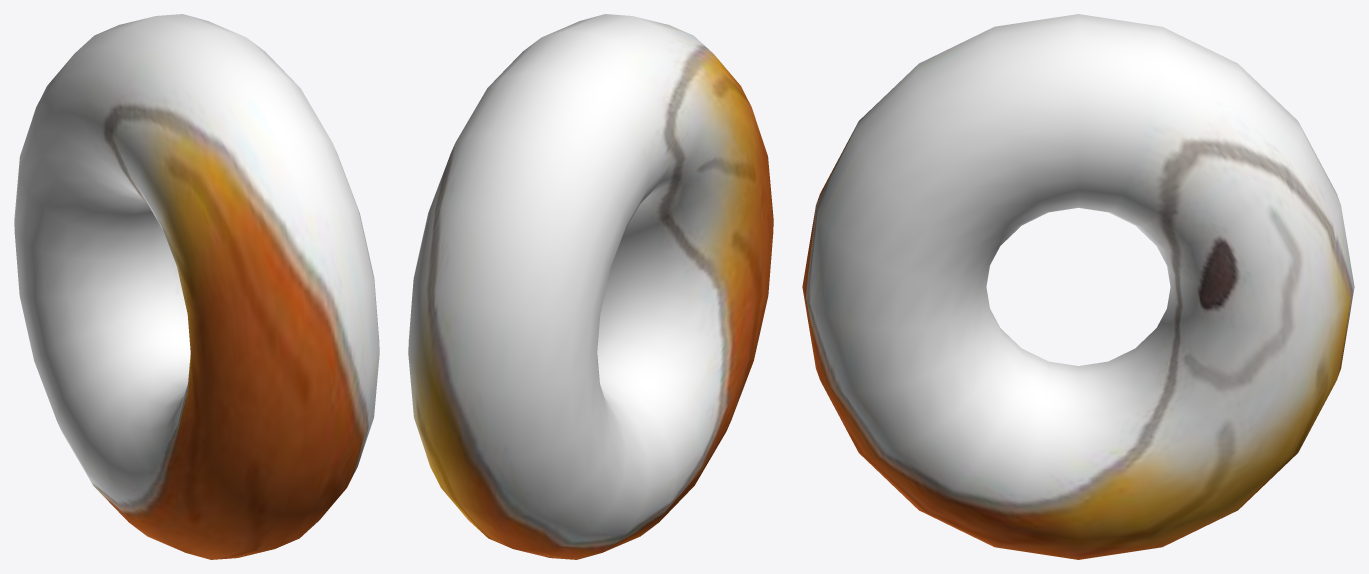
File: Dunuts.fbx
3 views of the same model, side by side, from view 1: azimuth 30°, elevation 25°; view 2: azimuth 150°, elevation 25°; view 3: azimuth 270°, elevation 25° (orthographic). The views are drawn at different scales.
Parts seen in each view (by area): view 1: pTorus1; view 2: pTorus1; view 3: pTorus1.
Part boxes in pixels (x1=…): pTorus1: x1=14, y1=14, x2=379, y2=559; pTorus1: x1=408, y1=14, x2=773, y2=559; pTorus1: x1=802, y1=14, x2=1354, y2=559.
Size of the model in its own units: 0.4558 by 1.31 by 1.24.
Materials: 1 (1 with a texture image).
